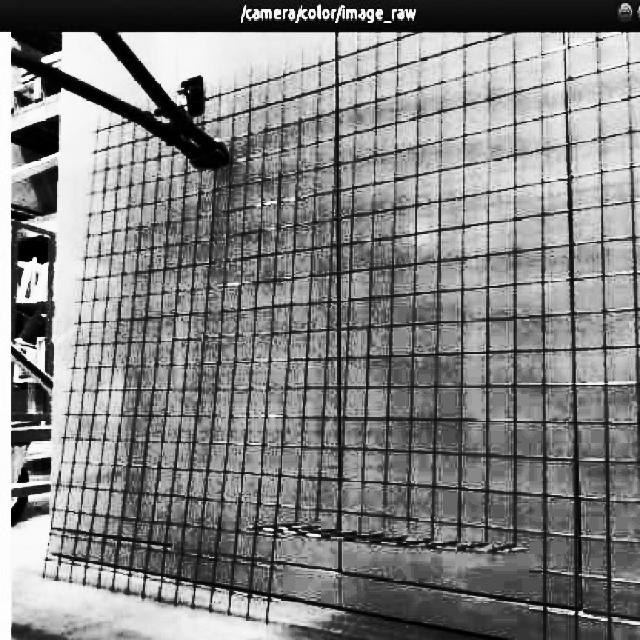anomaly-fence: (200, 507, 637, 640)
fences: (286, 91, 640, 494)
